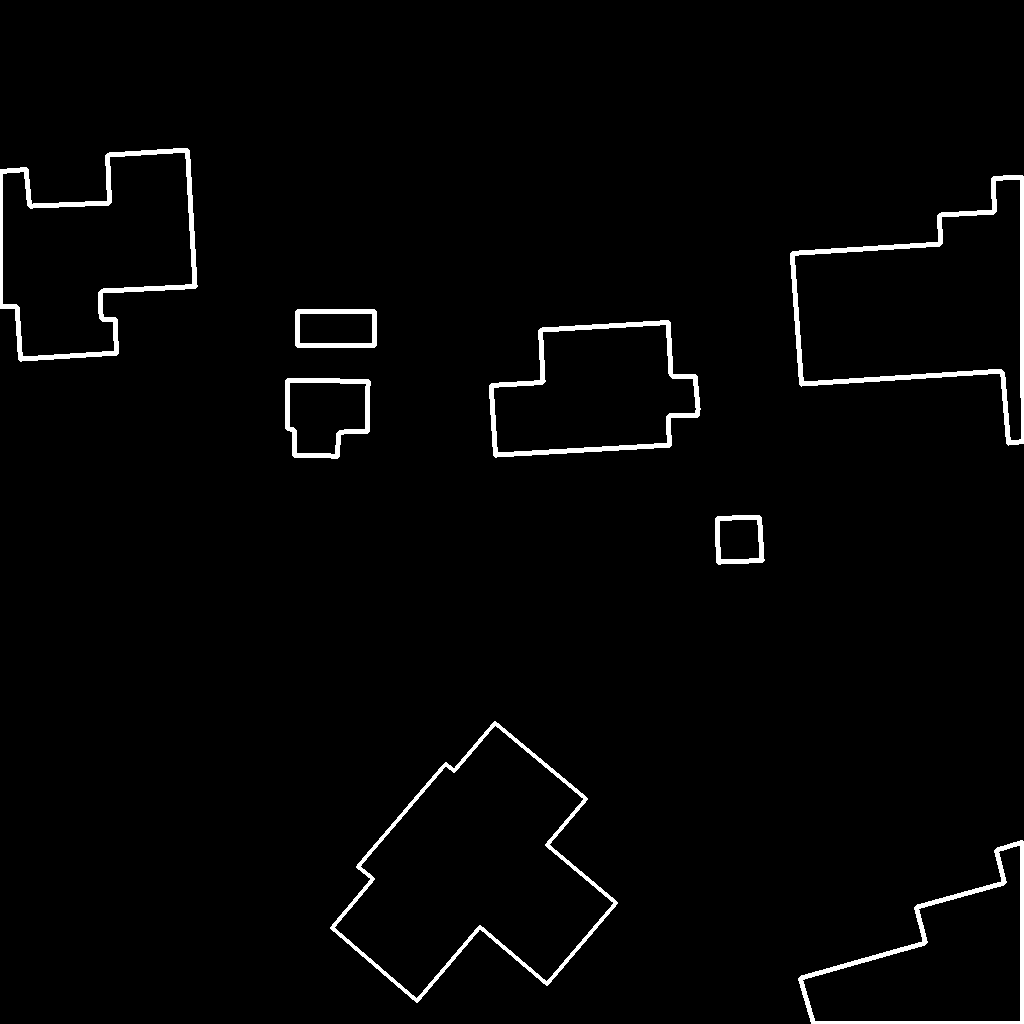building: (332, 723, 617, 1002), (792, 177, 1024, 444), (0, 150, 196, 360), (800, 842, 1024, 1024), (491, 322, 699, 456), (287, 380, 369, 457), (297, 311, 376, 346), (717, 517, 763, 563)
